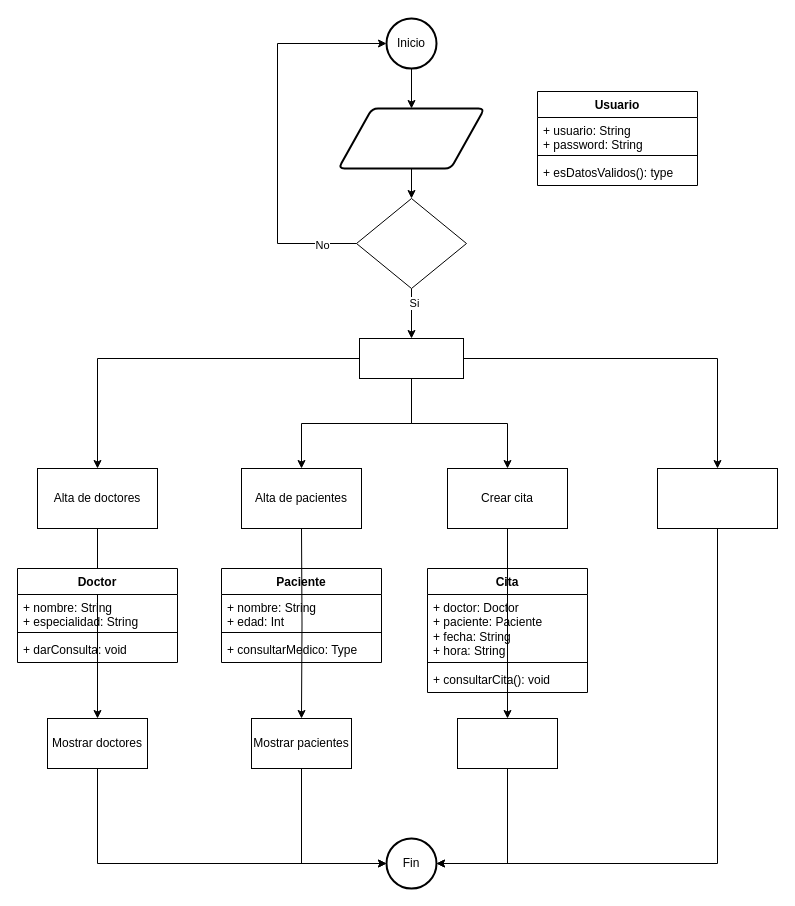
Some shapes in this 795 by 906 pixel diagram are drawn without their labels. The shapes that lost their labels are listed below. From the top down, each one's centre as x and y in pixels, then its label:
[411,138]: Ingrese usuario y contraseña
[411,243]: Credenciales válidas
[411,358]: Mostrar menú
[717,498]: Salir
[507,743]: Mostrar cita
